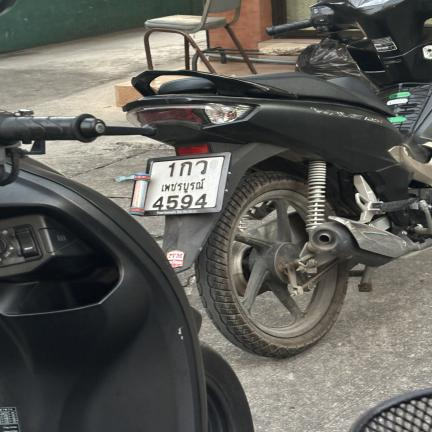1: (163, 161, 176, 177)
4: (193, 193, 209, 208), (151, 196, 165, 210)
5: (165, 194, 181, 210)
9: (180, 193, 194, 209)
A01: (178, 161, 193, 177)
A37: (193, 159, 210, 176)
PCH: (156, 178, 207, 194)
